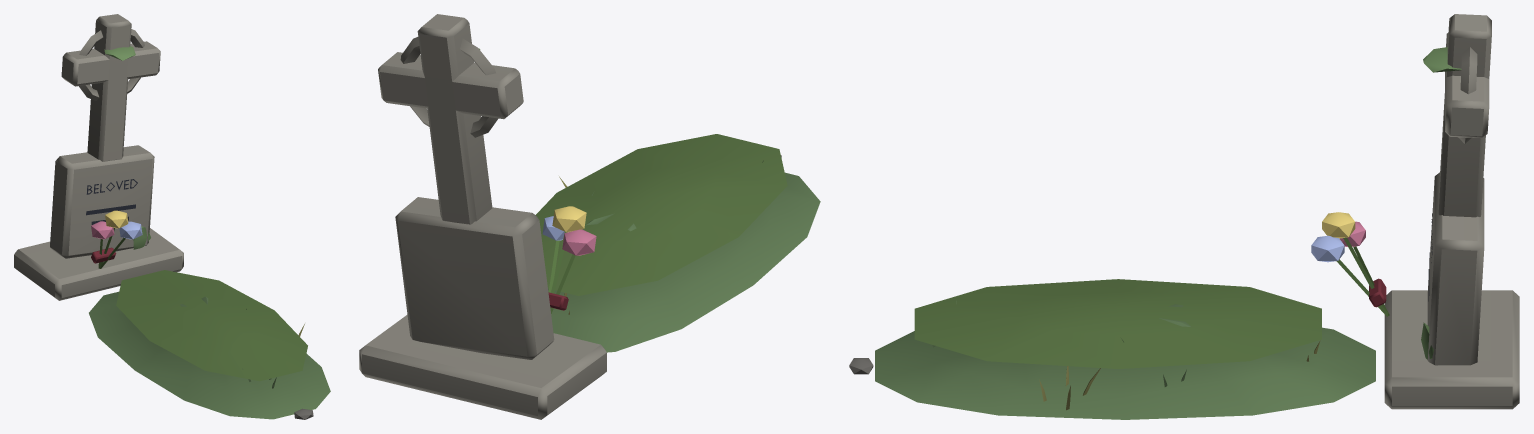
Rendered from grave_marked_cross.glb.
The picture shows the model from 3 angles, left to right: view 1: azimuth 30°, elevation 25°; view 2: azimuth 150°, elevation 25°; view 3: azimuth 270°, elevation 25°; orthographic projection. The views are drawn at different scales.
Parts seen in each view (by area): view 1: grave_marked_cross, flag, sign; view 2: grave_marked_cross, flag; view 3: grave_marked_cross, flag.
Boxes of the visible parts, x1,y1,x2,y2 form: grave_marked_cross: (14,14,330,419); flag: (91,210,142,268); sign: (86,179,137,224); grave_marked_cross: (359,14,820,419); flag: (542,206,596,313); grave_marked_cross: (849,14,1519,419); flag: (1311,212,1389,316).
Bounding box in the file's own units: 0.7317 × 1.12 × 1.89.
